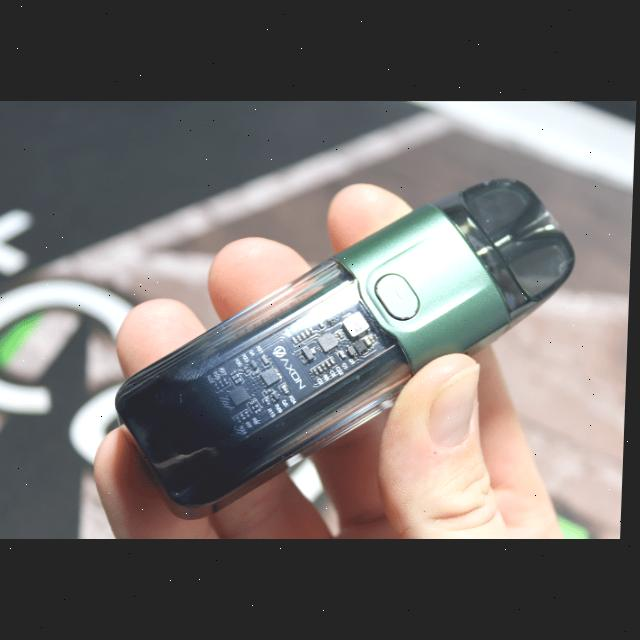vape: (114, 178, 580, 522)
